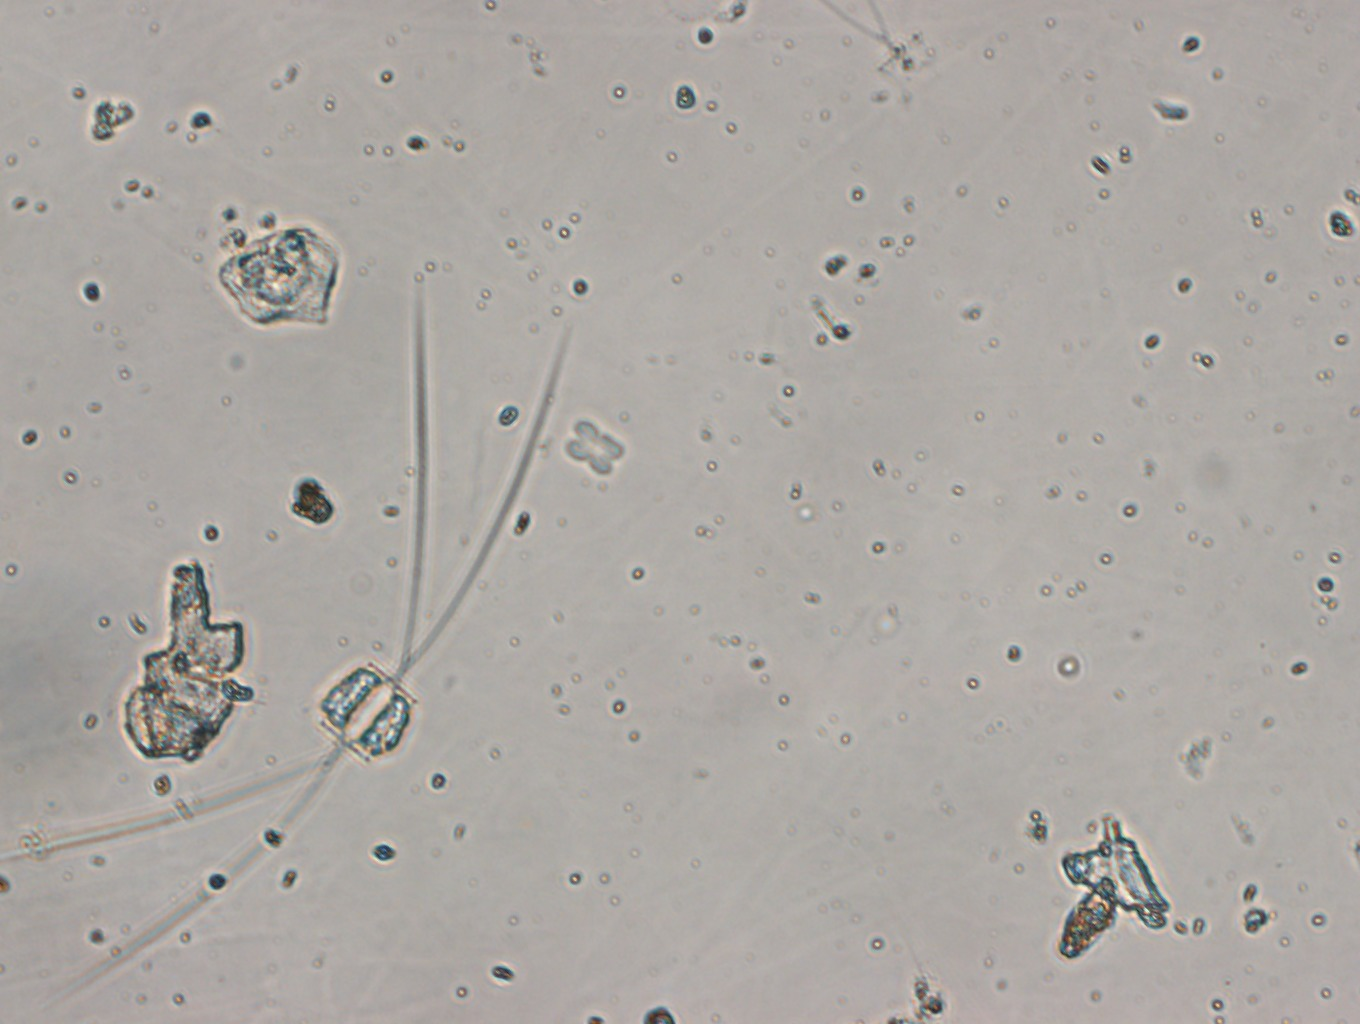chaetoceros: (1, 252, 581, 1010)
